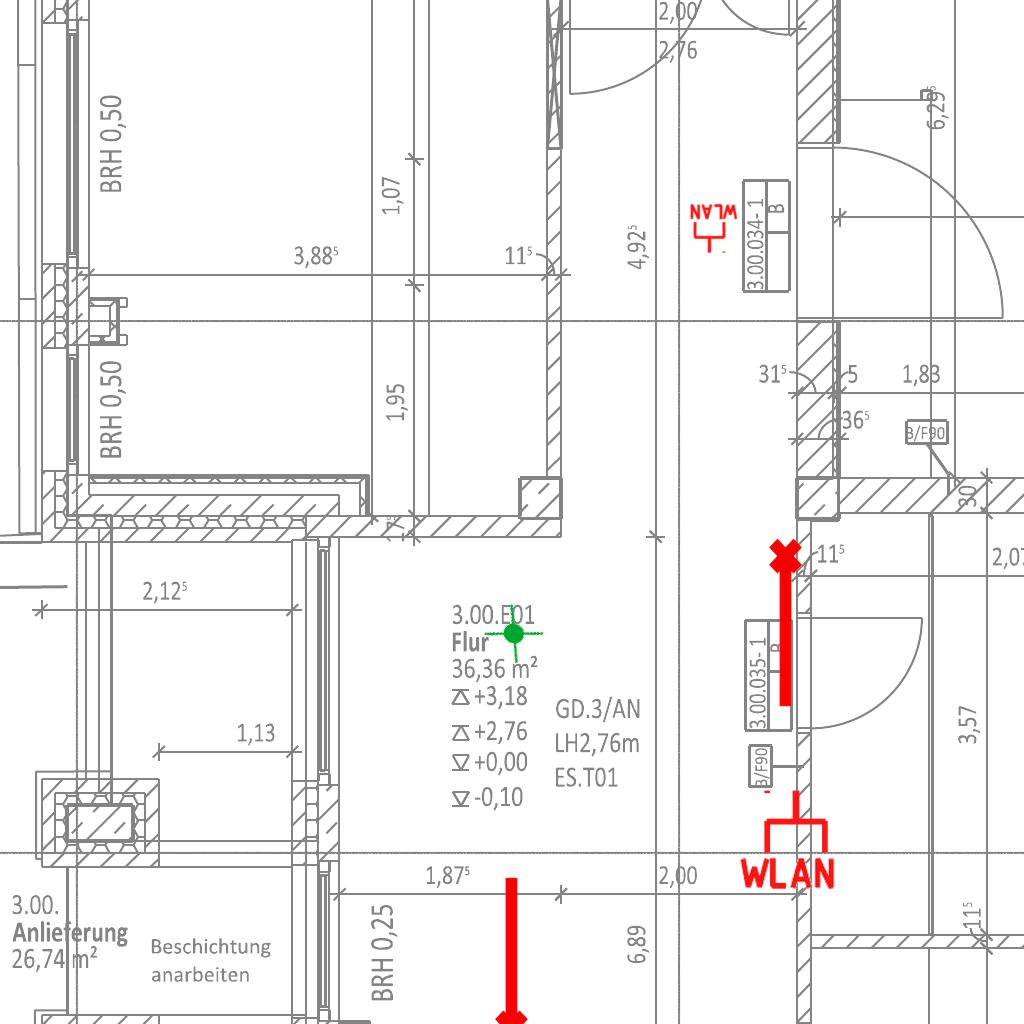ASR_Ansaugoeffnung: (765, 536, 811, 712), (486, 872, 532, 1024)
Notlichtbaustein_in_Allgemeinbeleuchtug_engebaut_Einbau_(1UG_und_2UG_Aufbauvaria: (477, 598, 550, 670)
WLAN: (735, 786, 839, 891), (688, 203, 740, 255)
